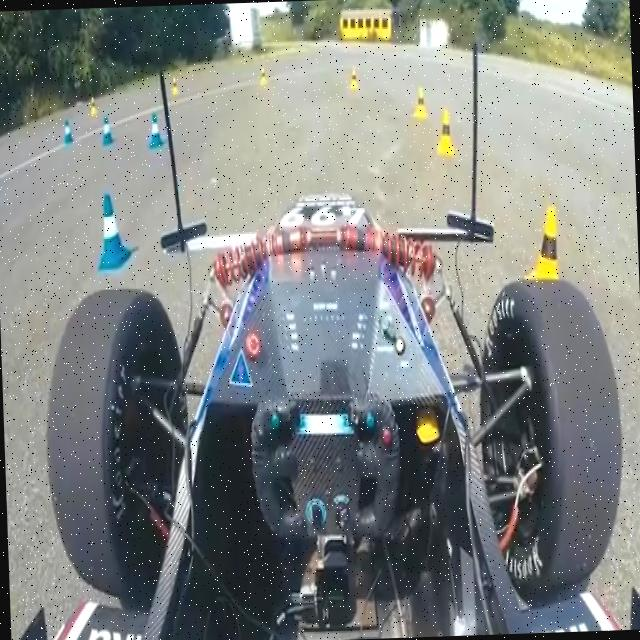blue_cone: (96, 192, 132, 272), (148, 112, 164, 149), (101, 116, 115, 146), (63, 118, 73, 145)
yellow_cone: (522, 204, 564, 298), (434, 106, 456, 156), (411, 86, 429, 120), (348, 65, 359, 90)
